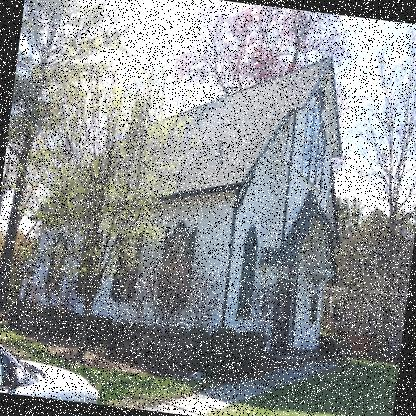Car: (0, 327, 106, 404)
